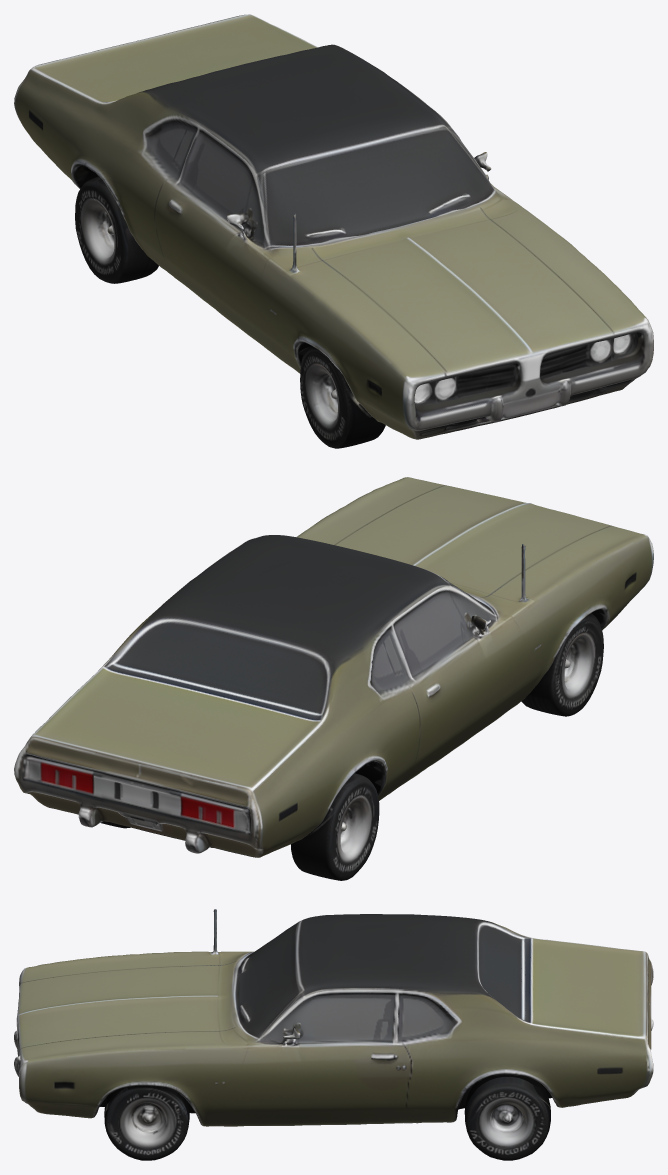
Rendered from charger.glb.
3 views of the same model, one above another, from view 1: azimuth 30°, elevation 25°; view 2: azimuth 150°, elevation 25°; view 3: azimuth 270°, elevation 25° (orthographic). The views are drawn at different scales.
Parts seen in each view (by area): view 1: model_0; view 2: model_0; view 3: model_0.
Boxes of the visible parts, left/top/right/bottom form: model_0: left=14, top=14, right=653, bottom=448; model_0: left=14, top=477, right=653, bottom=880; model_0: left=14, top=909, right=653, bottom=1160.
Bounding box in the file's own units: 0.3934 × 0.2896 × 1.
1 material, 1 textured.
